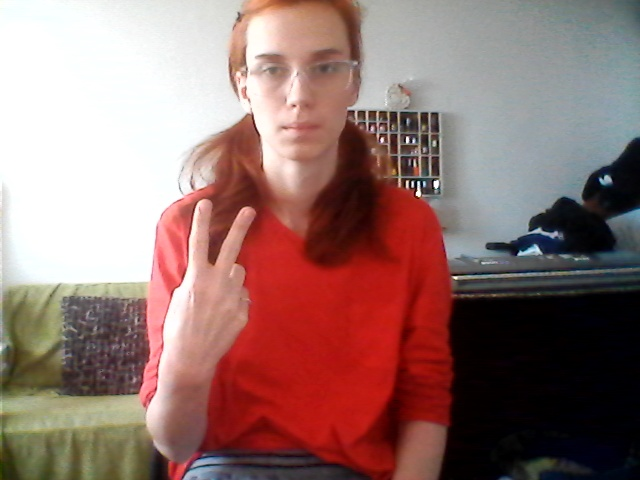v: (155, 189, 276, 352)
